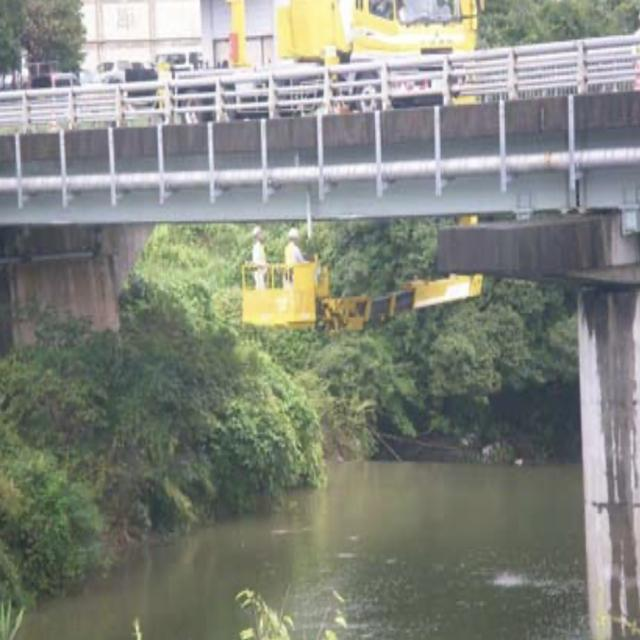leakage: (584, 276, 633, 631)
